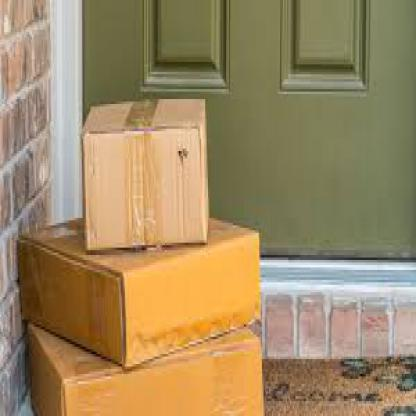paquete: (11, 208, 269, 342), (22, 320, 282, 414), (78, 99, 210, 250)
